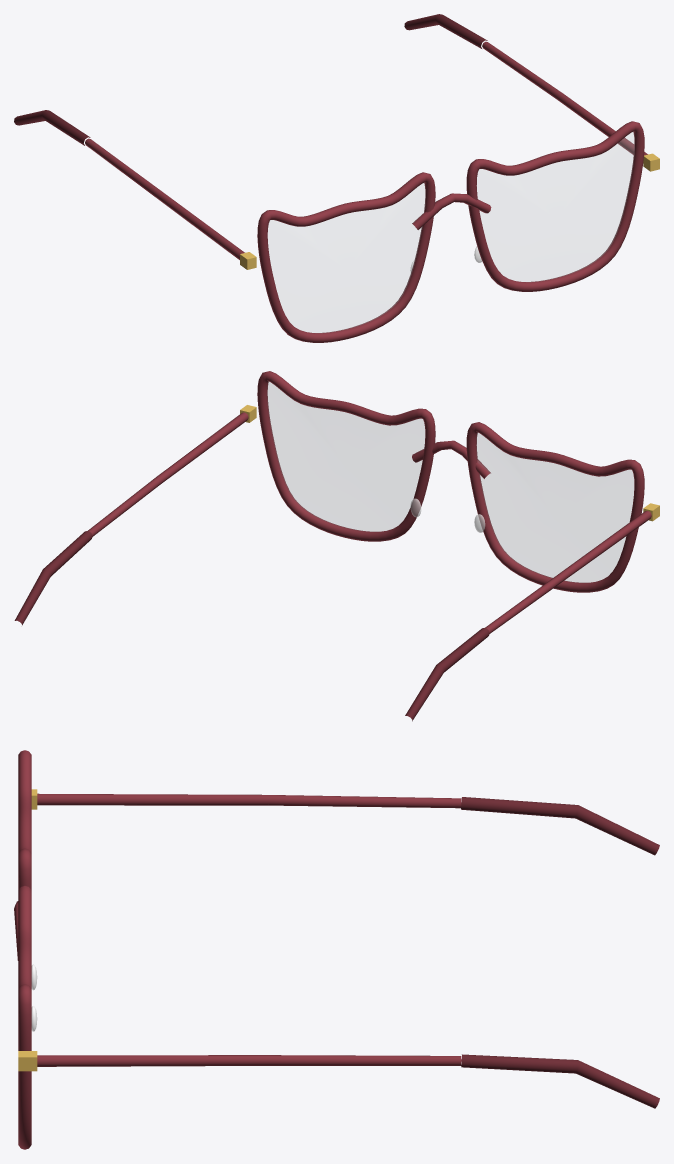
3 views of the same model, one above another, from view 1: azimuth 30°, elevation 25°; view 2: azimuth 150°, elevation 25°; view 3: azimuth 270°, elevation 25° (orthographic). The views are drawn at different scales.
Visible parts, largest first — view 1: Lens_L, Lens_R, Rim_R, Rim_L, Temple_L, Temple_R, TempleTip_R, TempleTip_L, Bridge; view 2: Lens_R, Lens_L, Rim_R, Rim_L, Temple_L, Temple_R, TempleTip_L, TempleTip_R, Bridge; view 3: Temple_L, Temple_R, Rim_R, TempleTip_L, TempleTip_R, Rim_L.
Part boxes in pixels (<box>): Lens_L: <box>268,183,425,332</box>; Lens_R: <box>477,132,634,281</box>; Rim_R: <box>466,121,644,291</box>; Rim_L: <box>257,172,435,342</box>; Temple_L: <box>85,138,244,259</box>; Temple_R: <box>482,41,647,155</box>; TempleTip_R: <box>404,14,487,48</box>; TempleTip_L: <box>14,110,90,145</box>; Bridge: <box>412,193,491,229</box>; Lens_R: <box>267,382,424,531</box>; Lens_L: <box>476,433,633,582</box>; Rim_R: <box>257,371,435,541</box>; Rim_L: <box>466,422,644,592</box>; Temple_L: <box>485,511,651,633</box>; Temple_R: <box>88,412,248,536</box>; TempleTip_L: <box>405,628,489,721</box>; TempleTip_R: <box>14,531,92,625</box>; Bridge: <box>412,440,490,478</box>; Temple_L: <box>37,793,461,808</box>; Temple_R: <box>37,1055,461,1066</box>; Rim_R: <box>18,886,31,1149</box>; TempleTip_L: <box>461,797,659,855</box>; TempleTip_R: <box>461,1054,659,1108</box>; Rim_L: <box>18,750,31,889</box>.
Size of the model in its own units: 2.64 by 0.9014 by 2.69.
